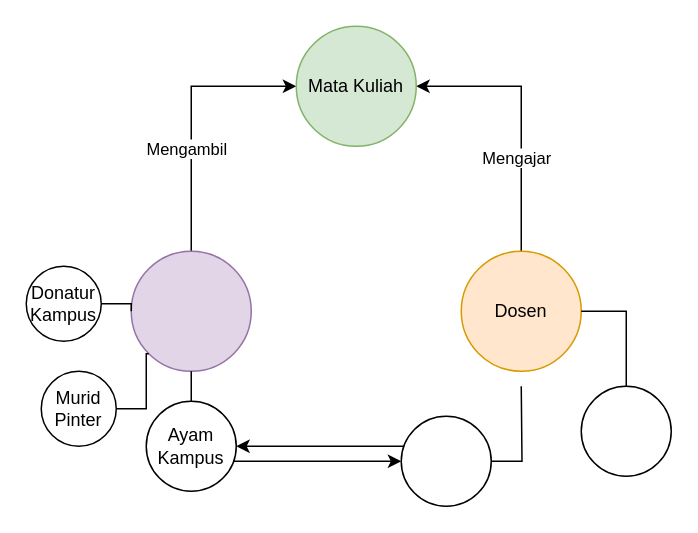
Some shapes in this 698 by 533 pixel diagram are drawn without their labels. Each missing label, with the centre of its shape:
"Dosen Baik Hati" belongs at (x=625, y=430).
"Mahasiswa" belongs at (x=190, y=310).
"Oknum" belongs at (x=445, y=460).
